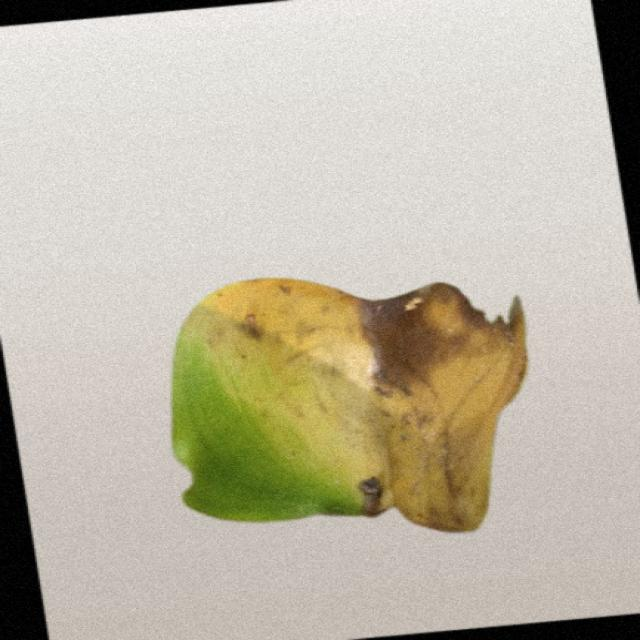daun berpenyakit kuning: (172, 279, 526, 531)
